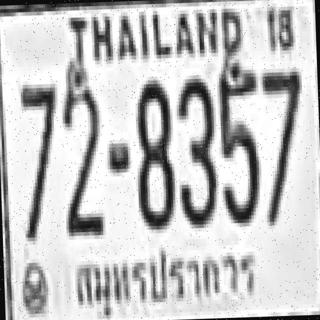N02: (60, 80, 102, 234)
N03: (174, 75, 216, 225)
N05: (216, 62, 258, 223)
N07: (260, 68, 304, 222), (19, 80, 58, 238), (19, 80, 57, 205), (19, 80, 57, 183)
N08: (132, 76, 174, 226)
P57: (70, 242, 261, 320)
